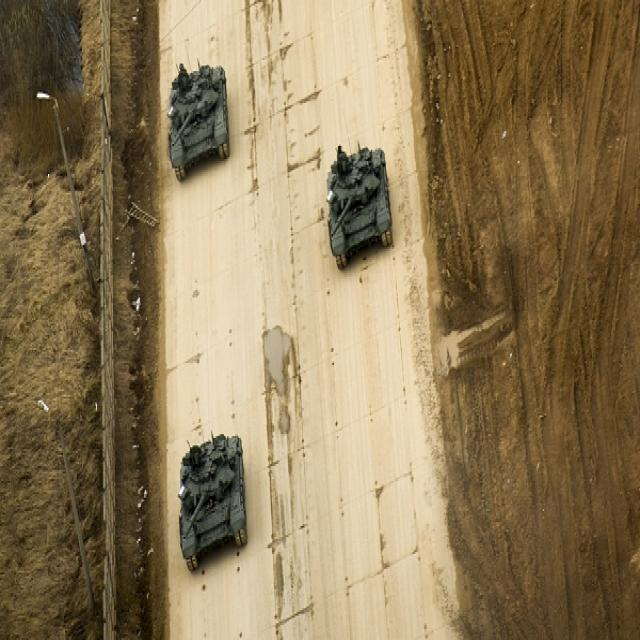tank: (176, 433, 249, 574), (324, 140, 397, 279), (165, 56, 232, 187)
